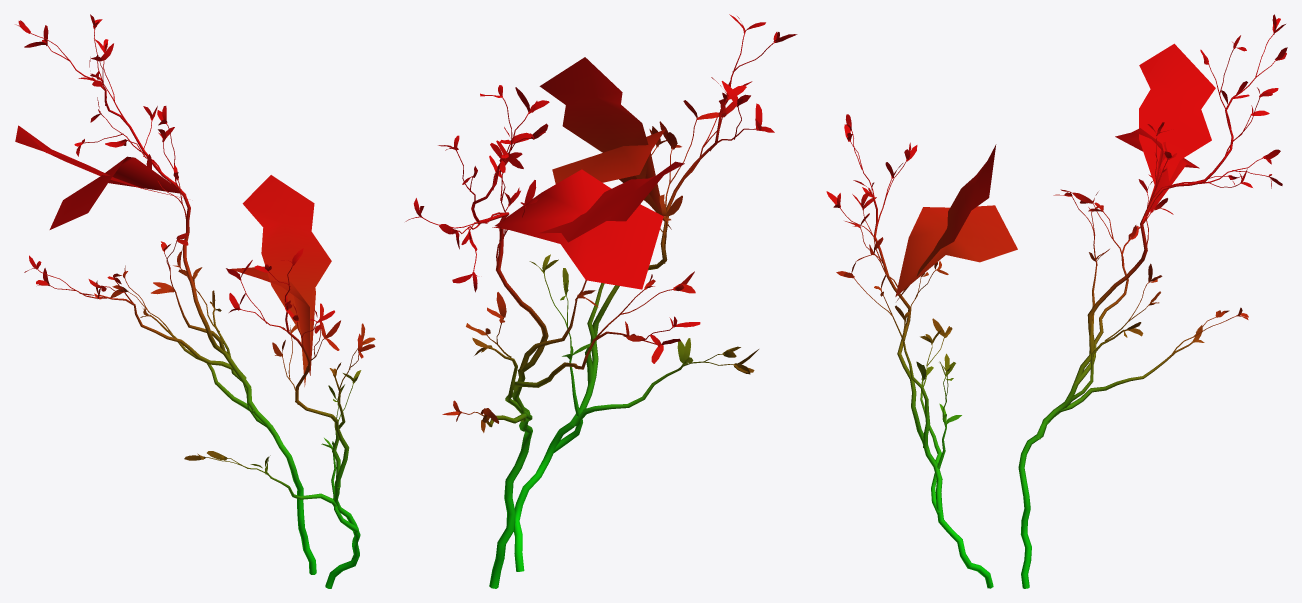
Rendered from Downy Willow_LOD4_Var16_wknlfiuqx.fbx.
The picture shows the model from 3 angles, left to right: view 1: azimuth 30°, elevation 25°; view 2: azimuth 150°, elevation 25°; view 3: azimuth 270°, elevation 25°; orthographic projection. The views are drawn at different scales.
Parts seen in each view (by area): view 1: _jyfx_Var16_LOD4; view 2: _jyfx_Var16_LOD4; view 3: _jyfx_Var16_LOD4.
Boxes of the visible parts, x1,y1,x2,y2 form: _jyfx_Var16_LOD4: (15, 14, 375, 588); _jyfx_Var16_LOD4: (405, 14, 797, 588); _jyfx_Var16_LOD4: (826, 14, 1287, 588).
Bounding box in the file's own units: 75.99 × 153 × 128.
